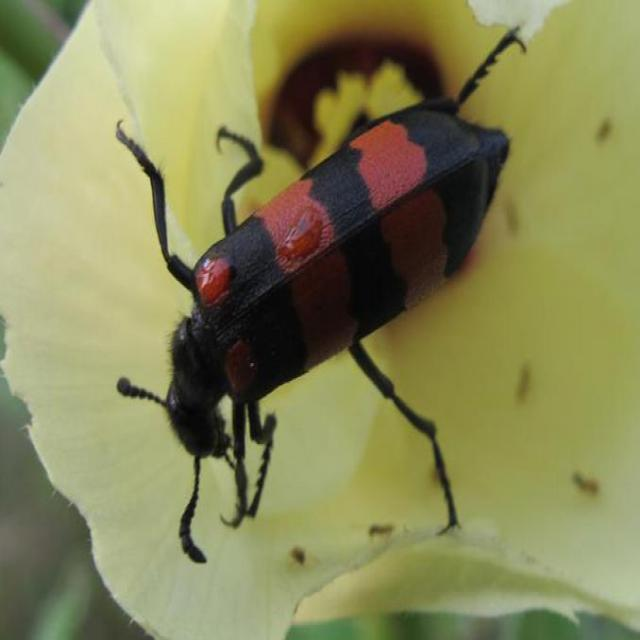BlisterBeetle-Adult-: (101, 24, 533, 569)
